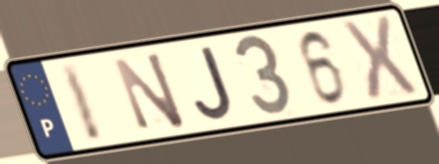3: (232, 30, 296, 122)
6: (297, 28, 350, 107)
I: (56, 60, 108, 146)
J: (192, 43, 237, 123)
N: (108, 48, 190, 133)
X: (336, 13, 422, 106)
